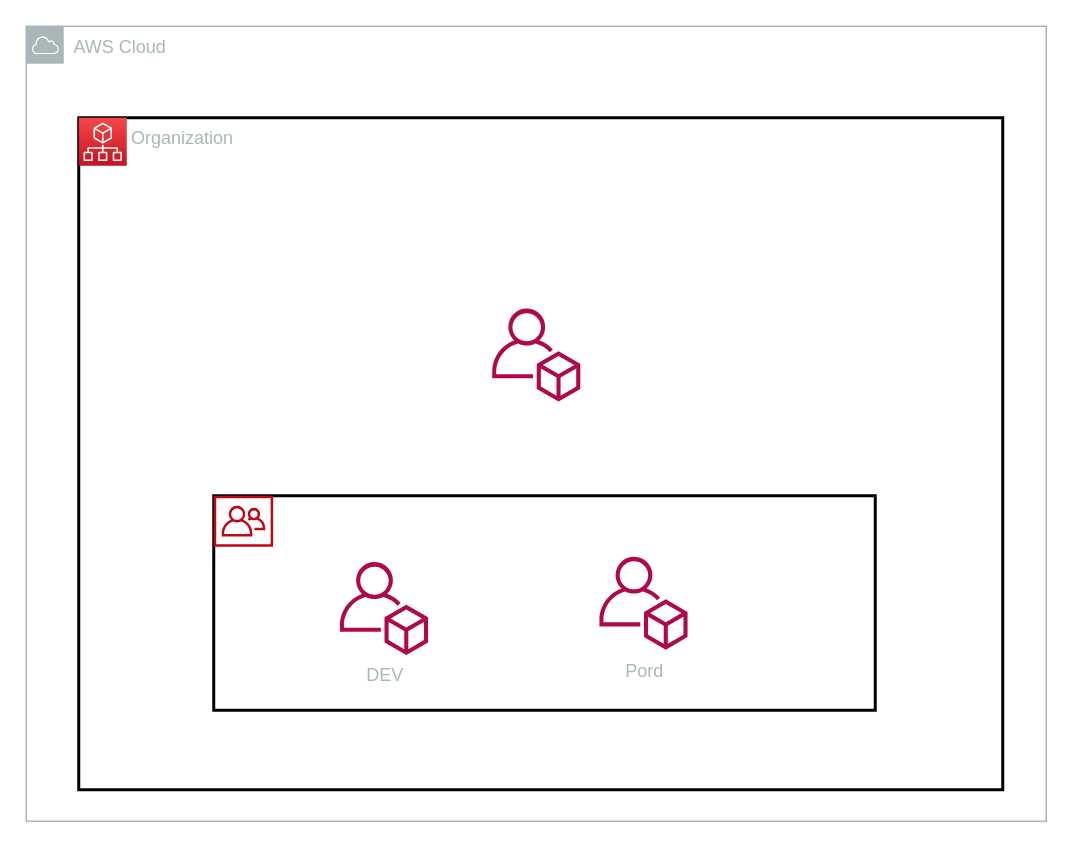
Some shapes in this 1073 by 848 pixel diagram are drawn without their labels. The box of each missing label's shape, as (x1, y1, x2, y2) in pixels:
Rio de Janeiro: (212, 494, 876, 711)
ROOT: (491, 308, 580, 401)
